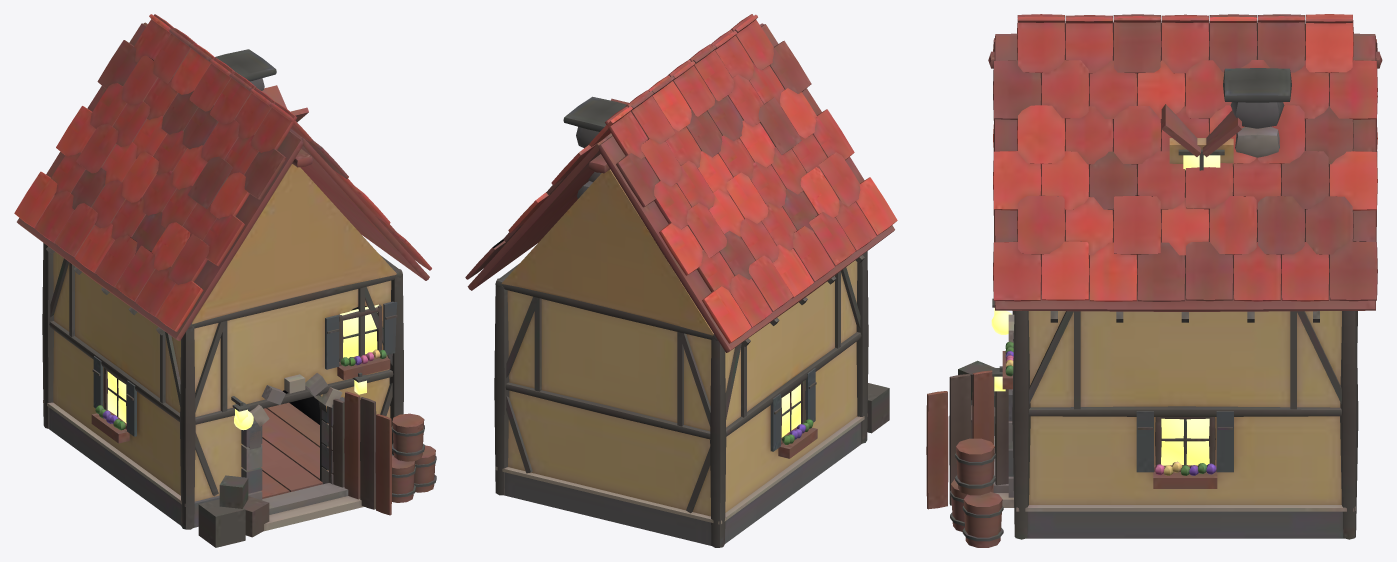
File: house_a.glb
3 views of the same model, side by side, from view 1: azimuth 30°, elevation 25°; view 2: azimuth 150°, elevation 25°; view 3: azimuth 270°, elevation 25° (orthographic). The views are drawn at different scales.
Parts seen in each view (by area): view 1: main, glow; view 2: main, glow; view 3: main, glow.
Part boxes in pixels (box(x1,y1,x2,y2)): main: box(14, 14, 436, 547); glow: box(107, 304, 378, 430); main: box(465, 14, 897, 547); glow: box(781, 384, 800, 437); main: box(926, 14, 1382, 547); glow: box(991, 155, 1220, 465).
Size of the model in its own units: 6.93 by 9.98 by 8.91.
Materials: 2 (1 with a texture image).
